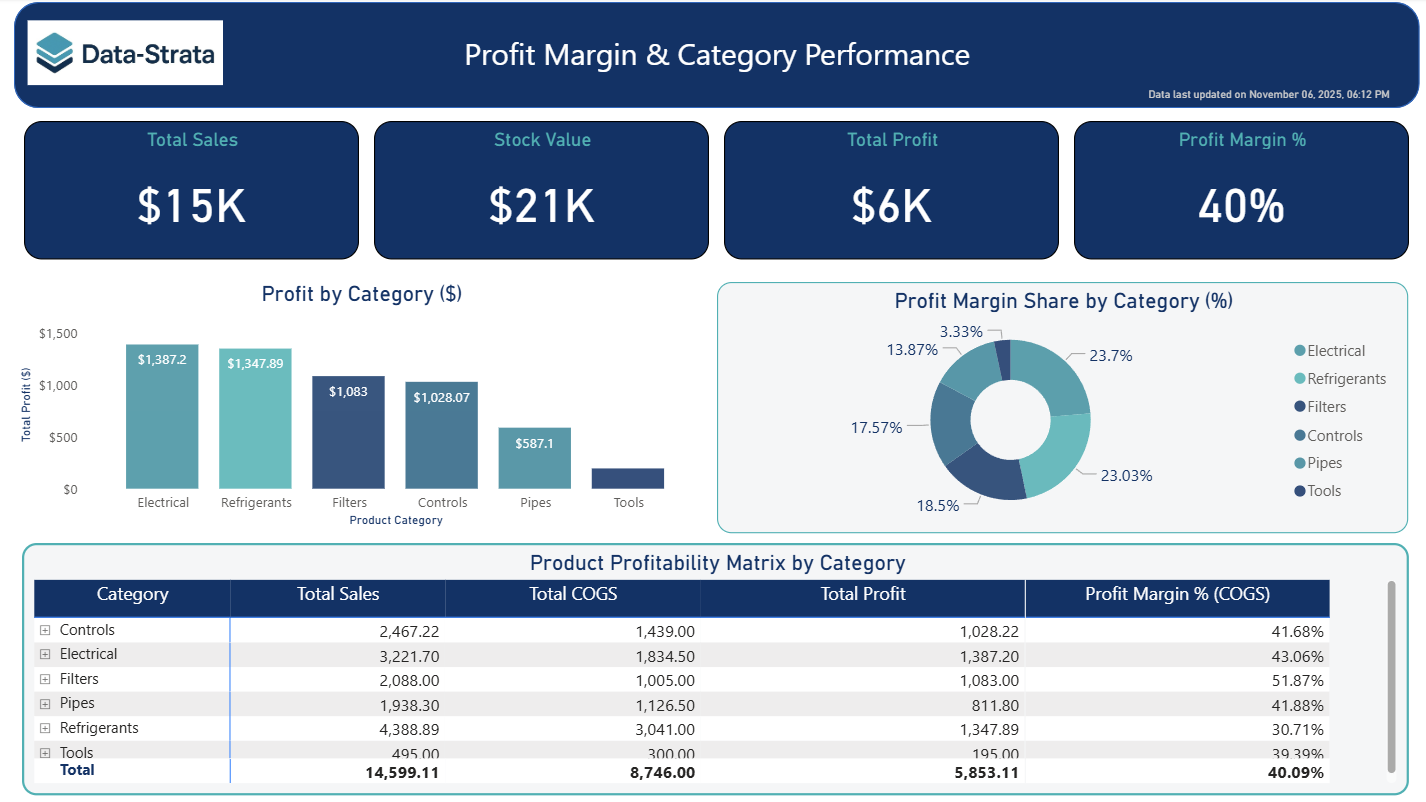

The dashboard page shown, as its layout file describes it:
{"tool":"powerbi","page":{"name":"Category Profit Margin","canvas":[1280,720],"ordinal":4},"visuals":[{"type":"group","id":"g1","title":"Group 1","box":[13.8,0,1258.8,98.8],"z":0},{"type":"shape","box":[13.8,3.7,1258.8,95],"z":0,"group":"g1"},{"type":"textbox","box":[339.4,26.2,607.5,51.2],"z":1000,"group":"g1"},{"type":"clusteredColumnChart","title":"Profit by Category ($)","fields":{"Category":["vw_CategoryMargin.Category"],"Y":["Sum(vw_CategoryMargin.Profit)"]},"box":[13.8,253.8,622.5,225],"z":1000},{"type":"image","box":[20.9,0,185.1,98.2],"z":2000,"group":"g1"},{"type":"card","title":"Total Sales","fields":{"Values":["_Measures.Total Sales (DAX)"]},"box":[22.5,110,300,123.8],"z":2000},{"type":"card","title":"Total Profit","fields":{"Values":["vw_CategoryMargin.Total Profit (Formatted)"]},"box":[649.2,110,300,124],"z":3000},{"type":"card","title":"Stock Value","fields":{"Values":["vw_WarehouseHealth.Stock Value (Formatted)"]},"box":[335.8,110,300,124],"z":4000},{"type":"card","title":"Profit Margin %","fields":{"Values":["_Measures.Profit Margin % (COGS)"]},"box":[962.5,110,300,123.8],"z":5000},{"type":"donutChart","title":"Profit Margin Share by Category (%)","fields":{"Category":["vw_SalesCOGS.Category"],"Y":["Sum(vw_SalesCOGS.Profit)"]},"box":[643.2,254.3,618.8,225],"z":6000},{"type":"pivotTable","title":"Product Profitability Matrix by Category","fields":{"Rows":["vw_SalesCOGS.Category","vw_SalesCOGS.ProductName"],"Values":["Sum(vw_SalesCOGS.SalesAmount)","_Measures.Total COGS","Sum(vw_SalesCOGS.Profit)","_Measures.Profit Margin % (COGS)"]},"box":[20.8,487.9,1242.4,226.2],"z":7000},{"type":"card","fields":{"Values":["_Measures.Last Refresh"]},"box":[1020,76.1,234.6,22.4],"z":8000}]}

Visuals, with their boxes in screenshot pixels (x1, y1, x2, y2), scaled from the page's 1280x720 canvas onto the 1426x802 screenshot:
"Group 1" group: 15 0 1418 110
shape: 15 4 1418 110
textbox: 378 29 1055 86
"Profit by Category ($)" clusteredColumnChart: 15 283 709 533
image: 23 0 229 109
"Total Sales" card: 25 123 359 260
"Total Profit" card: 723 123 1057 261
"Stock Value" card: 374 123 708 261
"Profit Margin %" card: 1072 123 1407 260
"Profit Margin Share by Category (%)" donutChart: 717 283 1406 534
"Product Profitability Matrix by Category" pivotTable: 23 543 1407 795
card - _Measures.Last Refresh: 1136 85 1398 110
